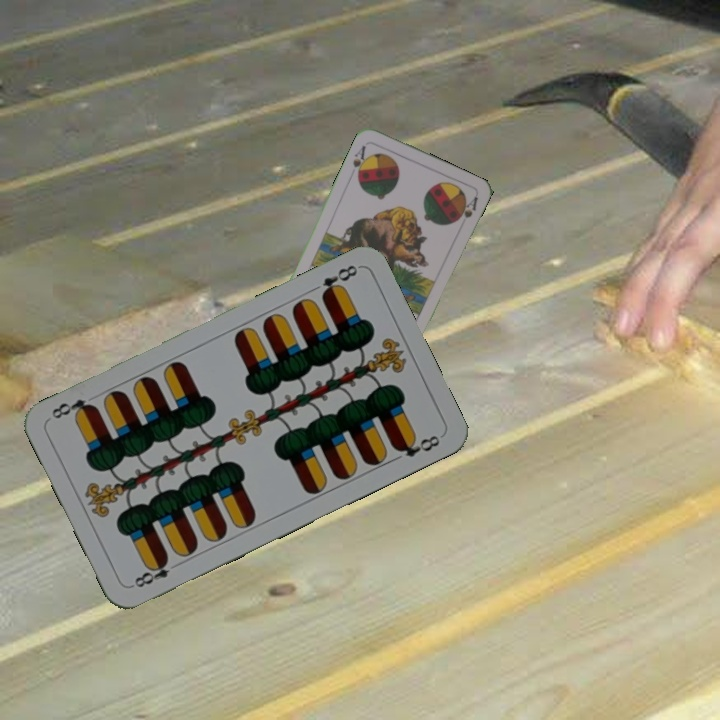E8: (317, 260, 361, 301), (128, 554, 173, 591)
SA: (349, 141, 371, 180)
